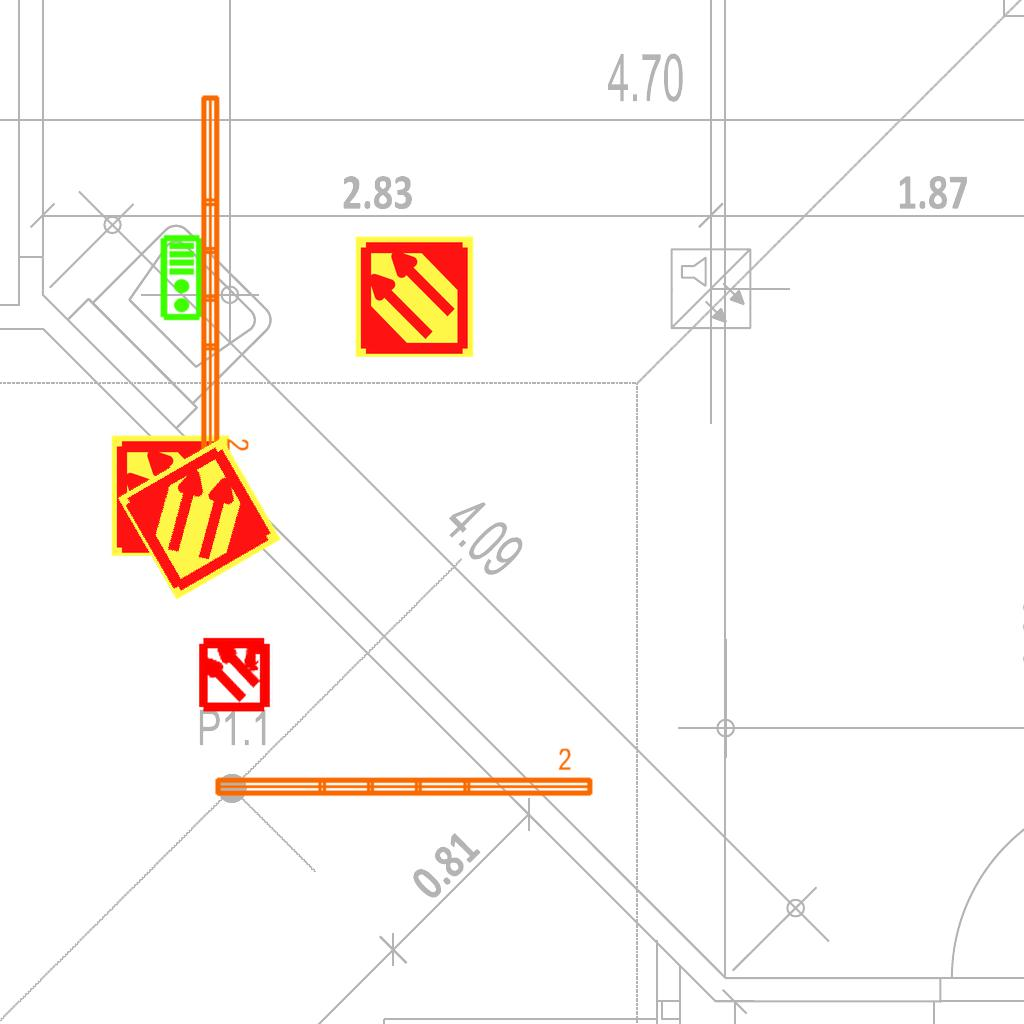ASR_Ansaugrauchmelder: (114, 433, 285, 604), (352, 234, 477, 359), (108, 433, 233, 558)
Ambulanz_Pendelleuchte_LED: (210, 746, 597, 802), (195, 90, 251, 477)
Gegensprechanlage_mit_Video: (159, 234, 206, 322)
OT_Multisensormelder_(Kombination_RMO_WMD): (178, 616, 291, 729)
